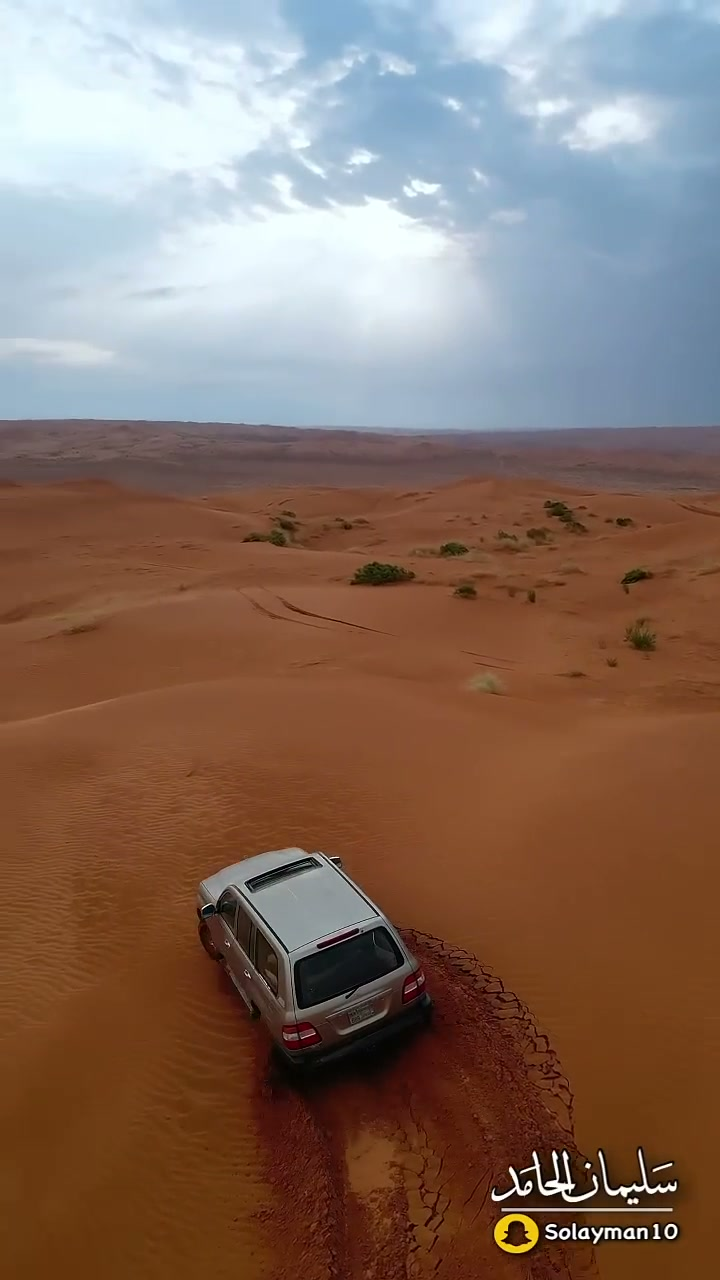vehicle_track: (259, 931, 596, 1279)
